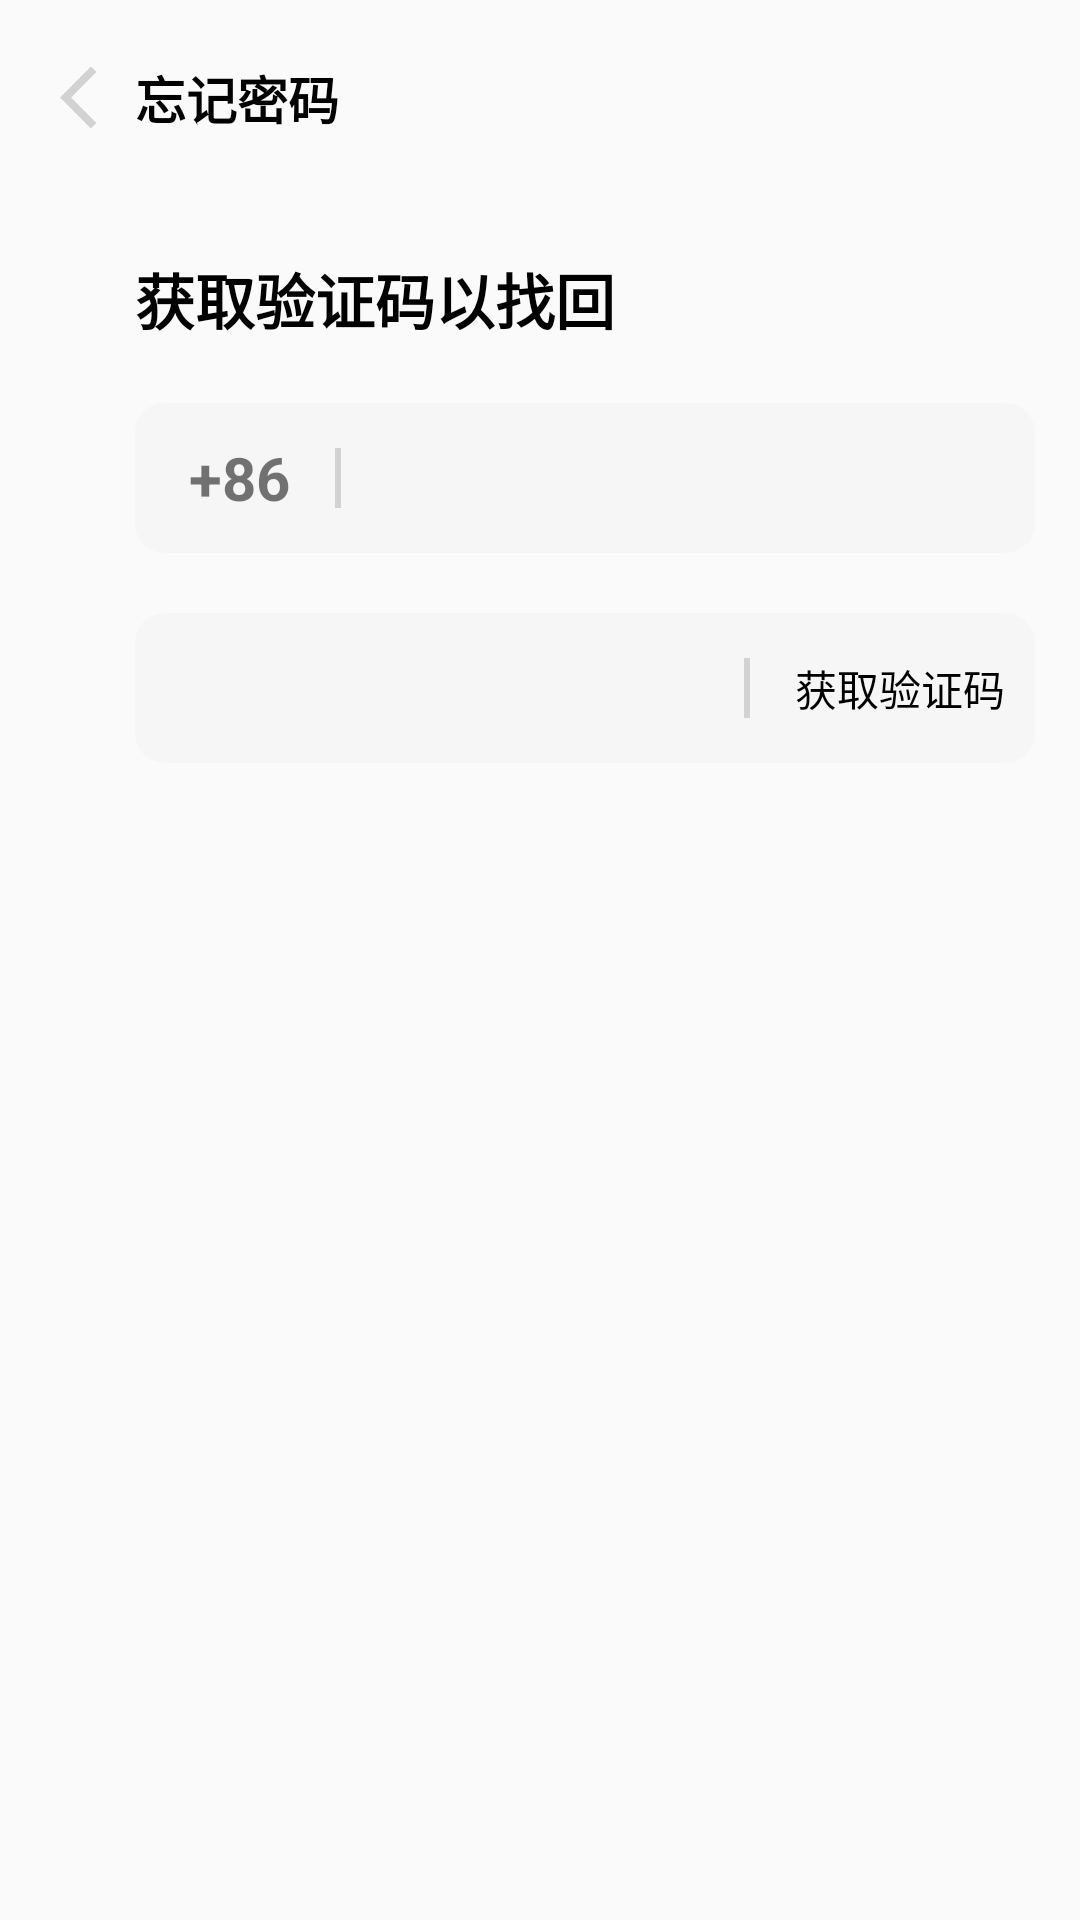

Icon bounding boxes for this 1080×1920 phone screenshot, format (x1, y1, x2, y2):
login back arrow: (60, 67, 96, 128)
